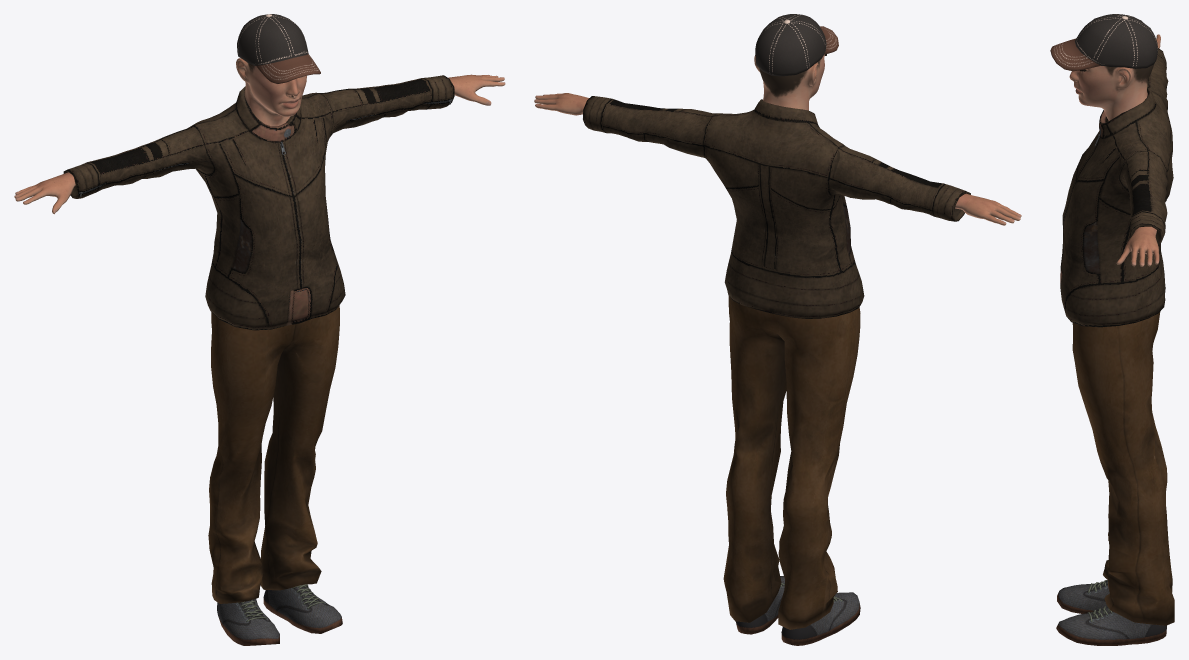
The model's file is Man A.obj.
3 renders of one model, left to right at view 1: azimuth 30°, elevation 25°; view 2: azimuth 150°, elevation 25°; view 3: azimuth 270°, elevation 25°, orthographic.
Parts seen in each view (by area): view 1: Tops, Bottoms, Body, Shoes, Hats; view 2: Tops, Bottoms, Body, Hats, Shoes; view 3: Tops, Bottoms, Hats, Body, Shoes.
Boxes of the visible parts, x1=… form: Tops: x1=63, y1=75, x2=454, y2=330; Bottoms: x1=208, y1=305, x2=339, y2=603; Body: x1=14, y1=58, x2=505, y2=214; Shoes: x1=217, y1=584, x2=342, y2=645; Hats: x1=237, y1=14, x2=320, y2=83; Tops: x1=583, y1=96, x2=970, y2=318; Bottoms: x1=723, y1=296, x2=860, y2=629; Body: x1=534, y1=54, x2=1021, y2=225; Hats: x1=755, y1=14, x2=838, y2=76; Shoes: x1=735, y1=576, x2=860, y2=645; Tops: x1=1060, y1=48, x2=1173, y2=327; Bottoms: x1=1072, y1=312, x2=1174, y2=625; Hats: x1=1050, y1=14, x2=1157, y2=71; Body: x1=1069, y1=34, x2=1160, y2=266; Shoes: x1=1056, y1=580, x2=1166, y2=645.
Bounding box in the file's own units: 151 × 180 × 33.3.
5 materials, 5 textured.
